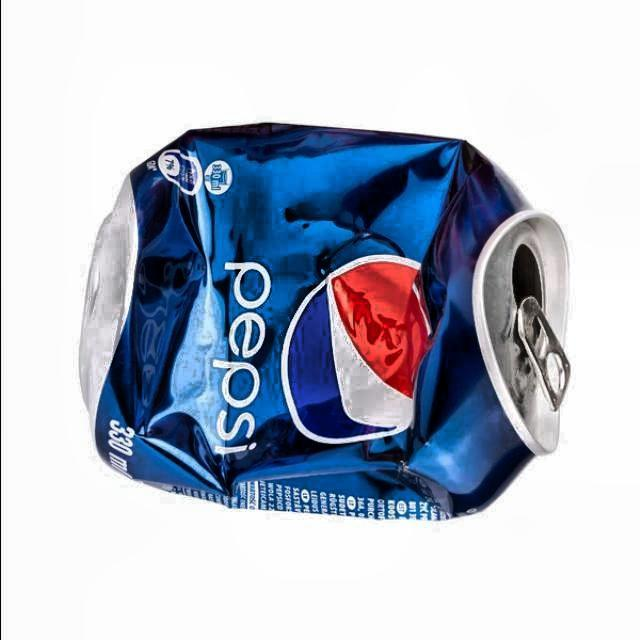metal: (79, 122, 571, 520)
